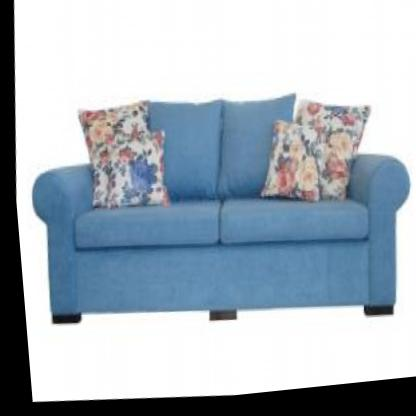Sofa: (13, 71, 416, 356)
